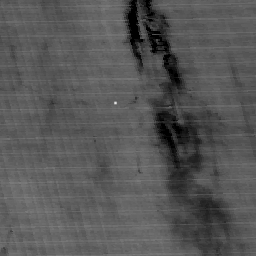Target: (111, 99, 118, 106)
